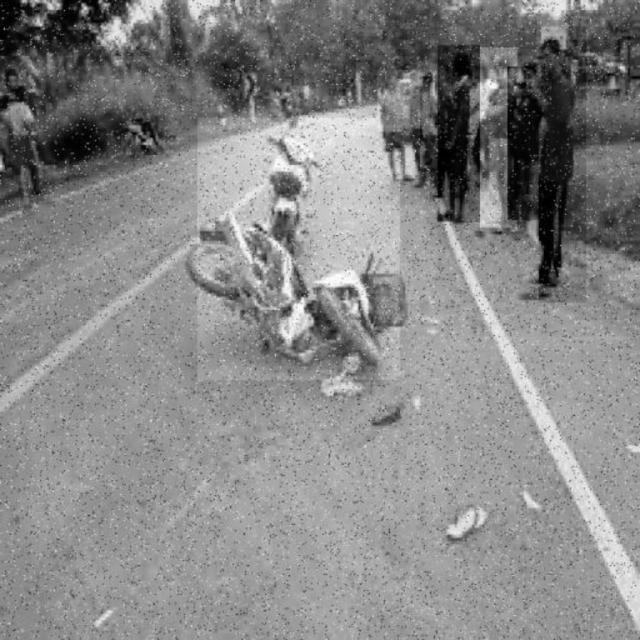accident: (198, 118, 400, 381)
person: (539, 27, 586, 303), (7, 64, 62, 214), (437, 45, 481, 222), (480, 48, 517, 232), (508, 66, 550, 220), (377, 71, 421, 179)
